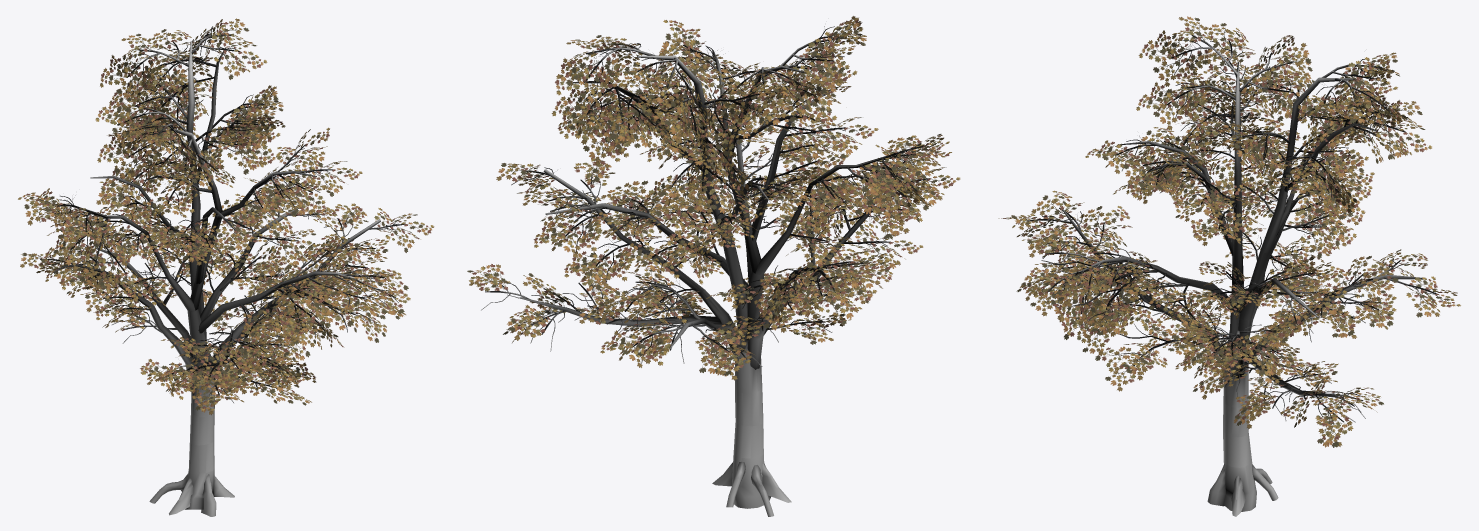
Rendered from PW_Tree_Maple_01.fbx.
3 views of the same model, side by side, from view 1: azimuth 30°, elevation 25°; view 2: azimuth 150°, elevation 25°; view 3: azimuth 270°, elevation 25° (orthographic). The views are drawn at different scales.
Parts seen in each view (by area): view 1: PW_Tree_Maple_01_LOD0; view 2: PW_Tree_Maple_01_LOD0; view 3: PW_Tree_Maple_01_LOD0.
Boxes of the visible parts, x1,y1,x2,y2 form: PW_Tree_Maple_01_LOD0: (18,18,434,516); PW_Tree_Maple_01_LOD0: (467,16,960,516); PW_Tree_Maple_01_LOD0: (998,16,1460,516).
Size of what is drawn, in the model's own units: 1322 by 1364 by 1245.
